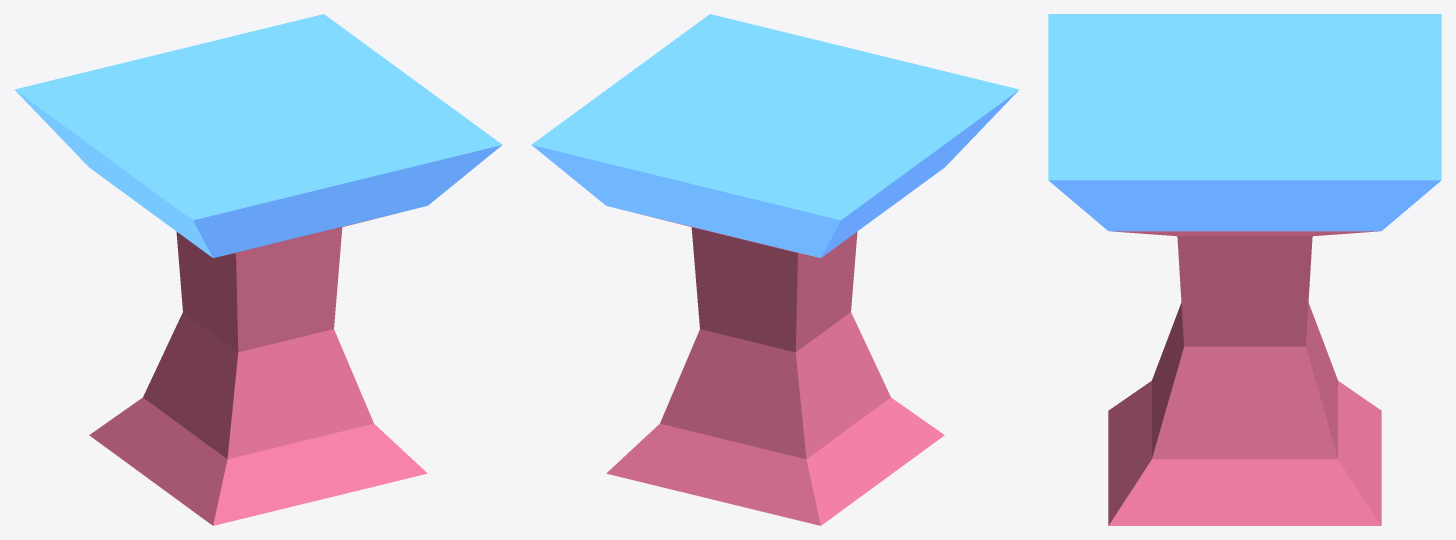
The model's file is mushroom.glb.
The picture shows the model from 3 angles, left to right: view 1: azimuth 30°, elevation 25°; view 2: azimuth 150°, elevation 25°; view 3: azimuth 270°, elevation 25°; orthographic projection. The views are drawn at different scales.
Parts seen in each view (by area): view 1: Cube; view 2: Cube; view 3: Cube.
Part boxes in pixels (bbox=[...]): Cube: bbox=[14, 14, 502, 525]; Cube: bbox=[531, 14, 1019, 525]; Cube: bbox=[1048, 14, 1441, 525].
Bounding box in the file's own units: 0.2883 × 0.3 × 0.2883.
